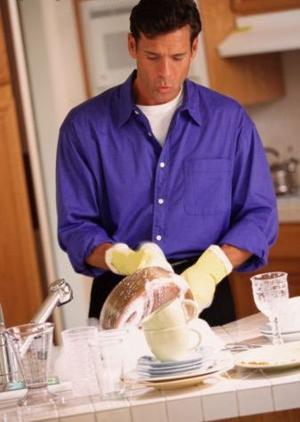person: (57, 1, 280, 329)
